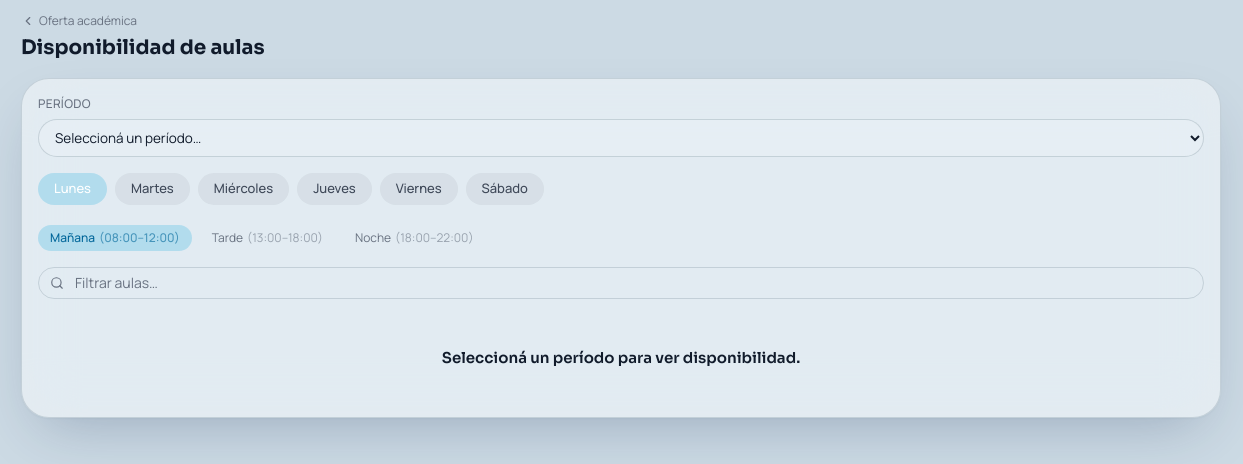
Scenario: PreceptorCalendario › lets the user choose a period when none is given
The width and height of the screenshot is (1243, 464).
Expected: the text "Seleccioná un período para ver disponibilidad." is shown, [442, 346, 800, 369]
Select "Ciclo lectivo 2026" in the dropdown labelled "Período" at (621, 138), box [38, 119, 1204, 157]
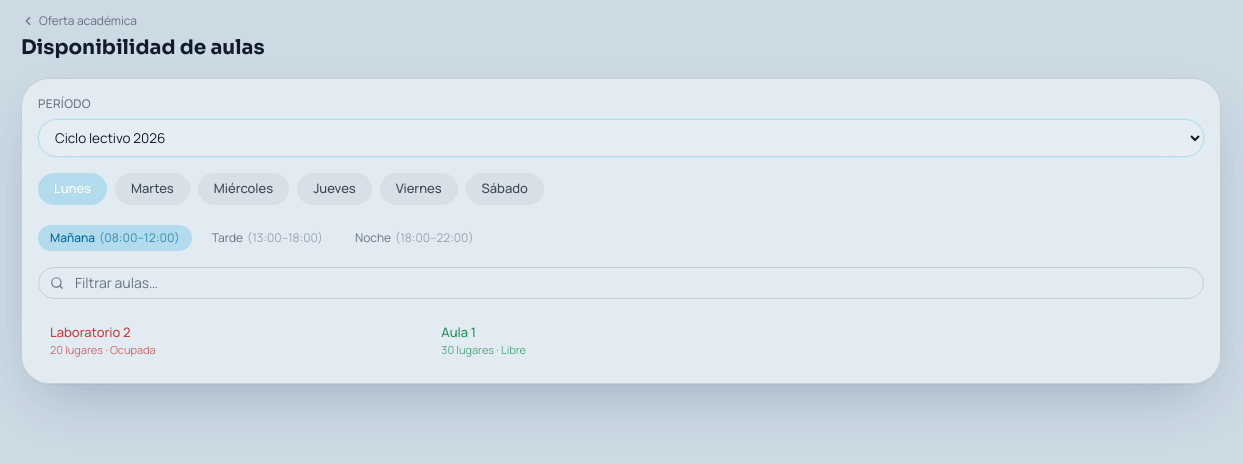
Expected: the text "Laboratorio 2" is shown, [50, 322, 130, 340]
